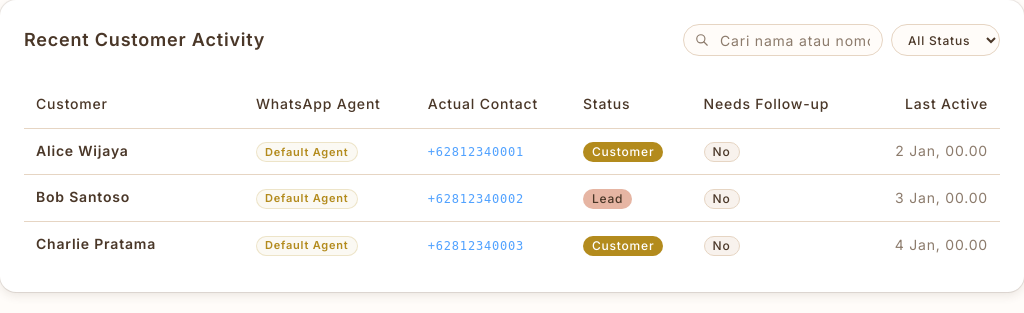
Test case: RecentActivityTable component › search input filters leads by name
Expected: the text "Alice Wijaya" is shown, [24,128,244,172]
Expected: the text "Bob Santoso" is shown, [24,175,244,219]
Note: Type search query
Type "Alice" into the field with placeholder "Cari nama atau nomor..." at {"x": 783, "y": 40}, box [683,24,883,56]
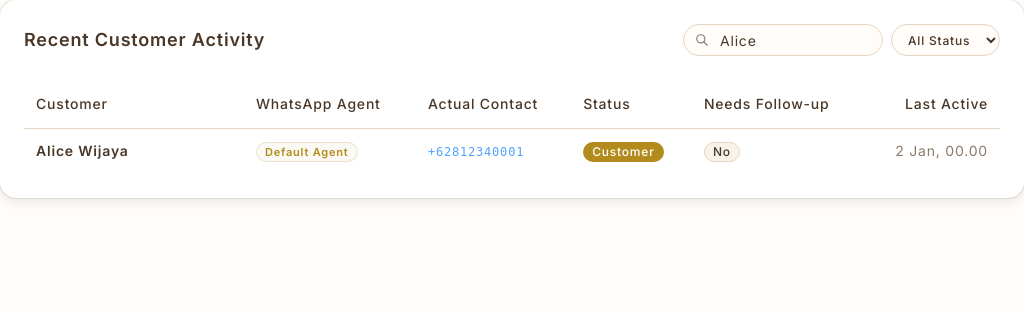
Expected: the text "Alice Wijaya" is shown, [24,128,244,172]
Result: the text "Bob Santoso" is gone
Result: the text "Charlie Pratama" is gone
